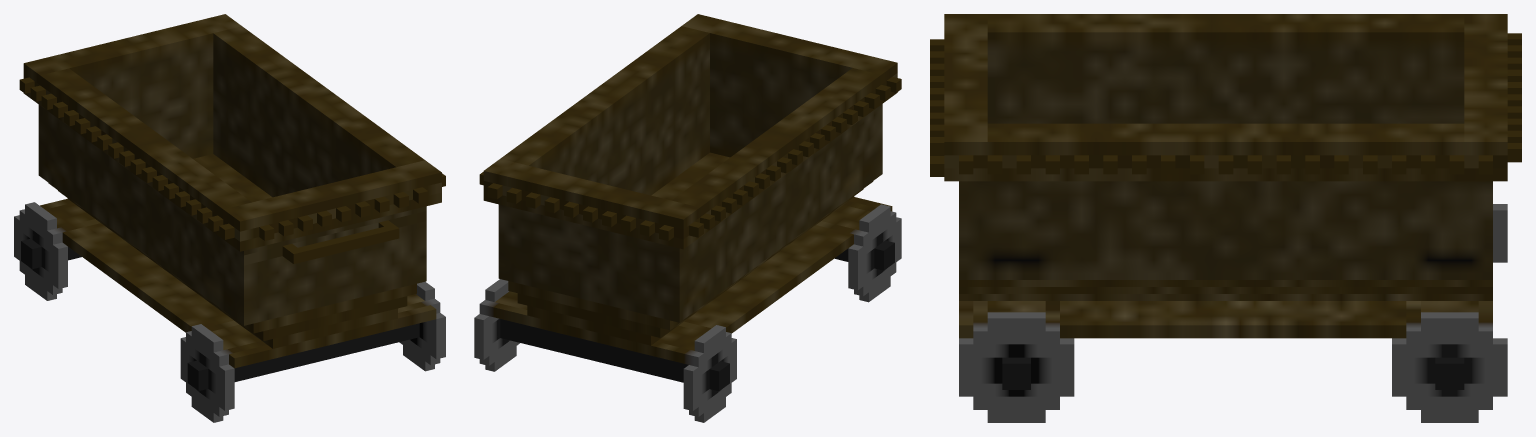
File: cart.fbx
3 renders of one model, left to right at view 1: azimuth 30°, elevation 25°; view 2: azimuth 150°, elevation 25°; view 3: azimuth 270°, elevation 25°, orthographic. The views are drawn at different scales.
Parts seen in each view (by area): view 1: Matrix; view 2: Matrix; view 3: Matrix.
Boxes of the visible parts, x1=… form: Matrix: x1=14, y1=14, x2=445, y2=422; Matrix: x1=474, y1=14, x2=901, y2=422; Matrix: x1=930, y1=14, x2=1521, y2=422.
Size of the model in its own units: 25 by 21 by 41.
1 material, 1 textured.
